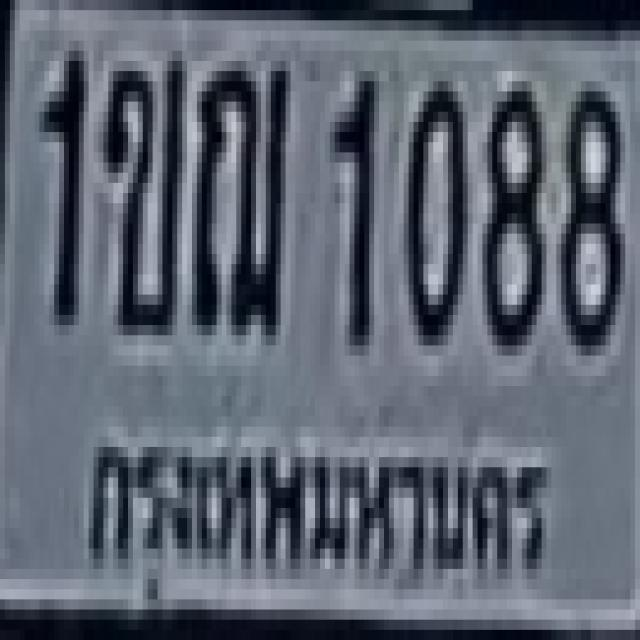-: (187, 51, 286, 325), (99, 51, 182, 325)
0: (403, 71, 462, 335)
1: (37, 41, 81, 315), (332, 71, 372, 335)
8: (480, 71, 539, 346), (556, 82, 616, 346)
BKK: (65, 400, 563, 625)
